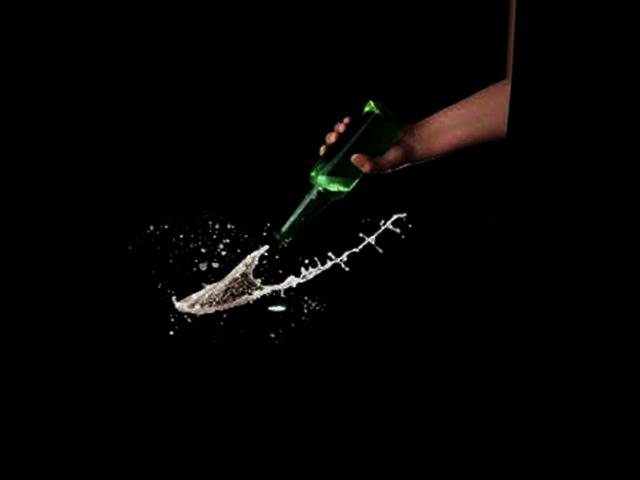beer: (272, 91, 404, 250)
